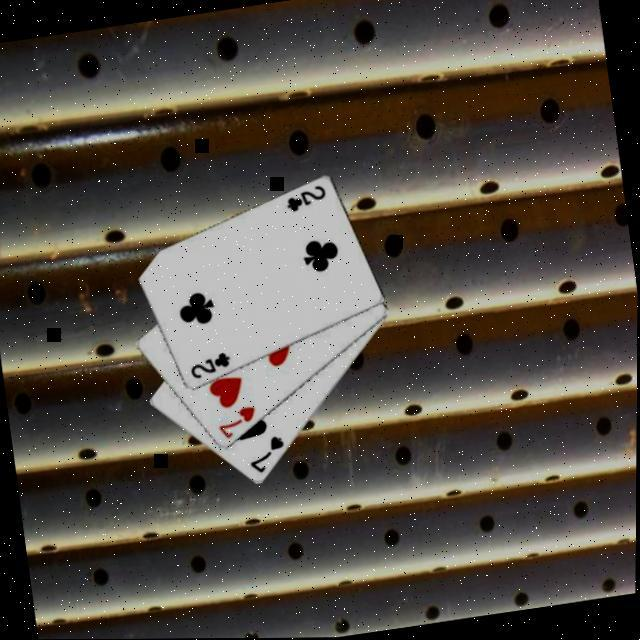2C: (187, 350, 236, 384), (283, 183, 332, 217)
7H: (215, 404, 263, 444)
7S: (245, 433, 291, 479)
